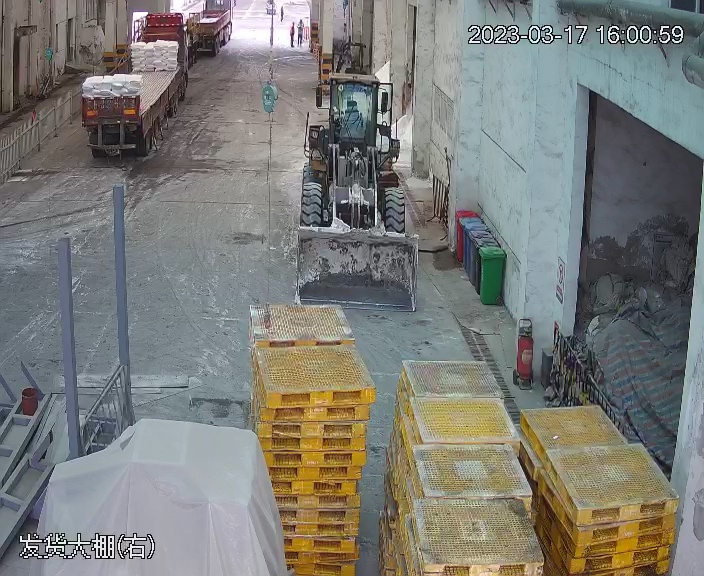truck: (75, 6, 198, 161)
